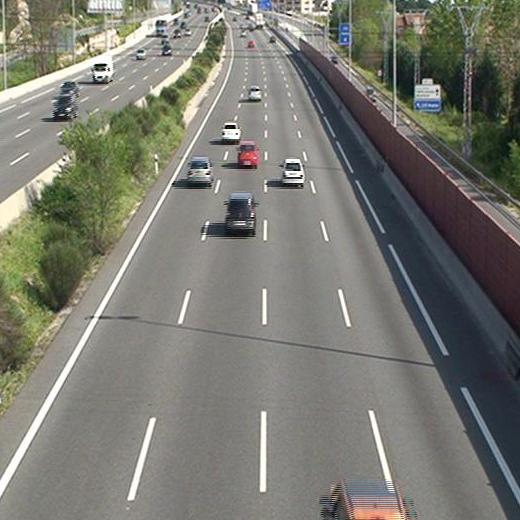car: (225, 192, 256, 230), (186, 158, 213, 184), (280, 159, 304, 184), (237, 141, 258, 166), (221, 121, 240, 140), (247, 86, 261, 100)
